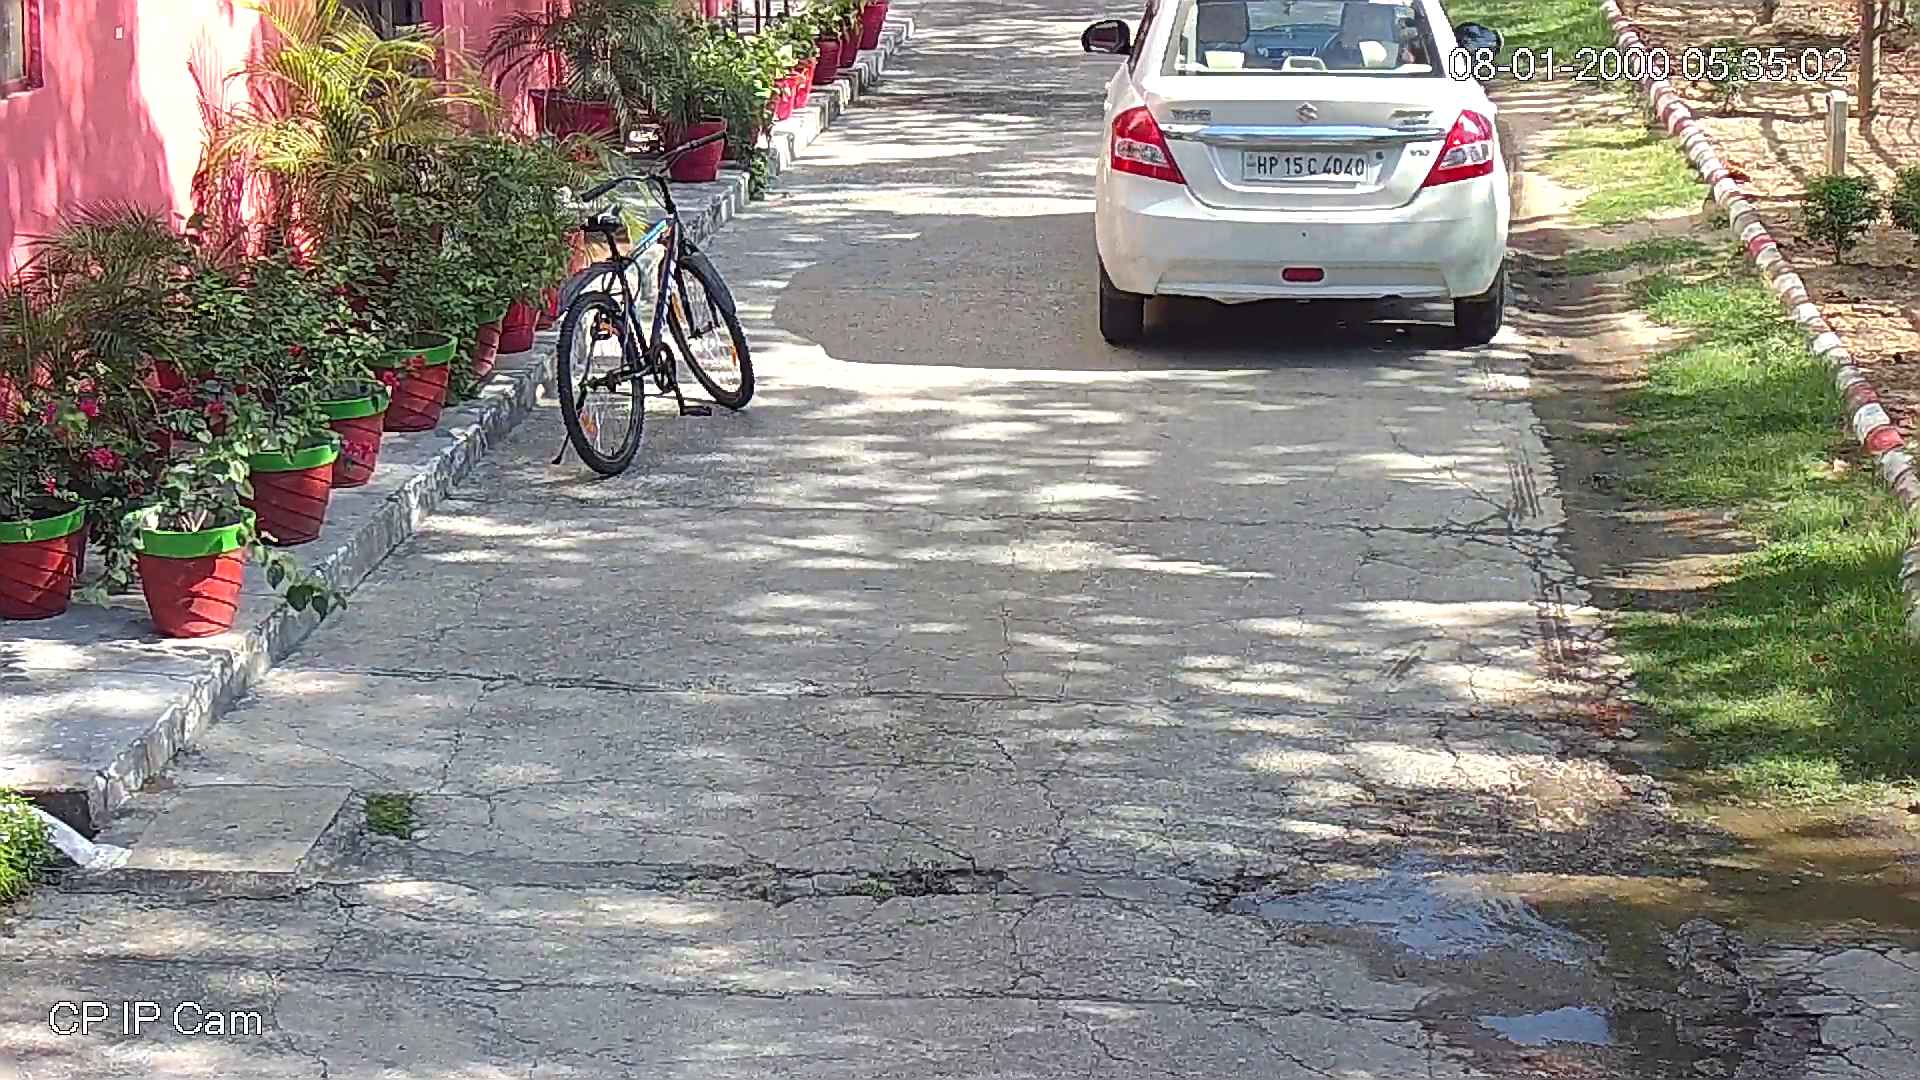plate: (1236, 143, 1371, 182)
